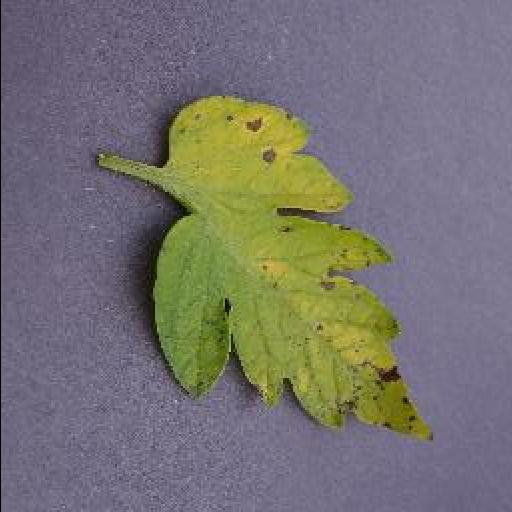disease_tomato: (150, 96, 434, 442)
